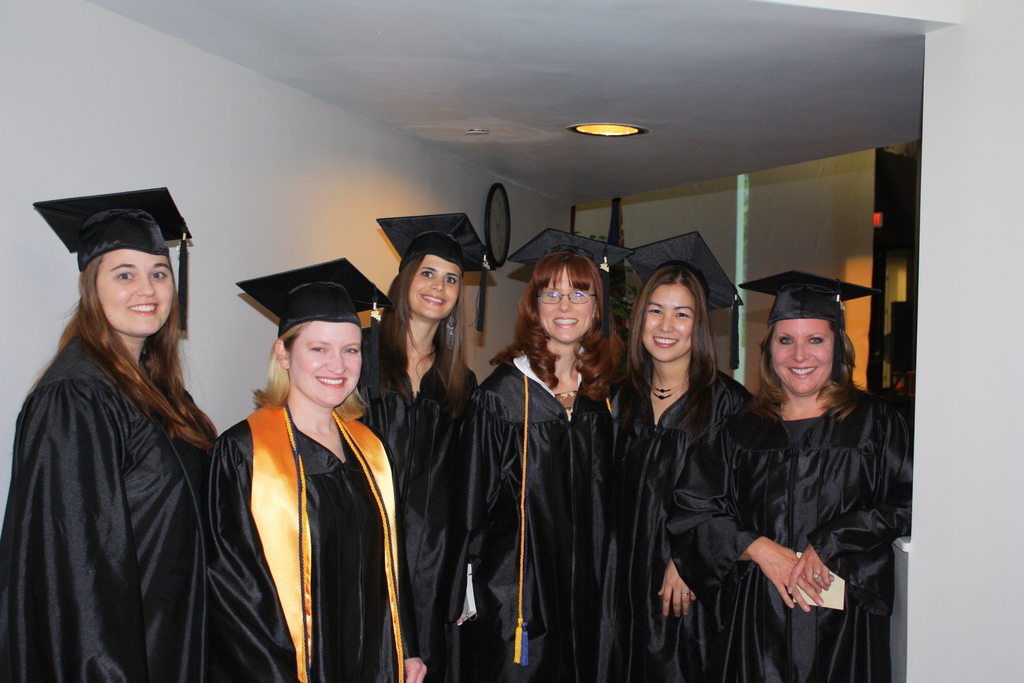Person: (0, 187, 913, 683)
